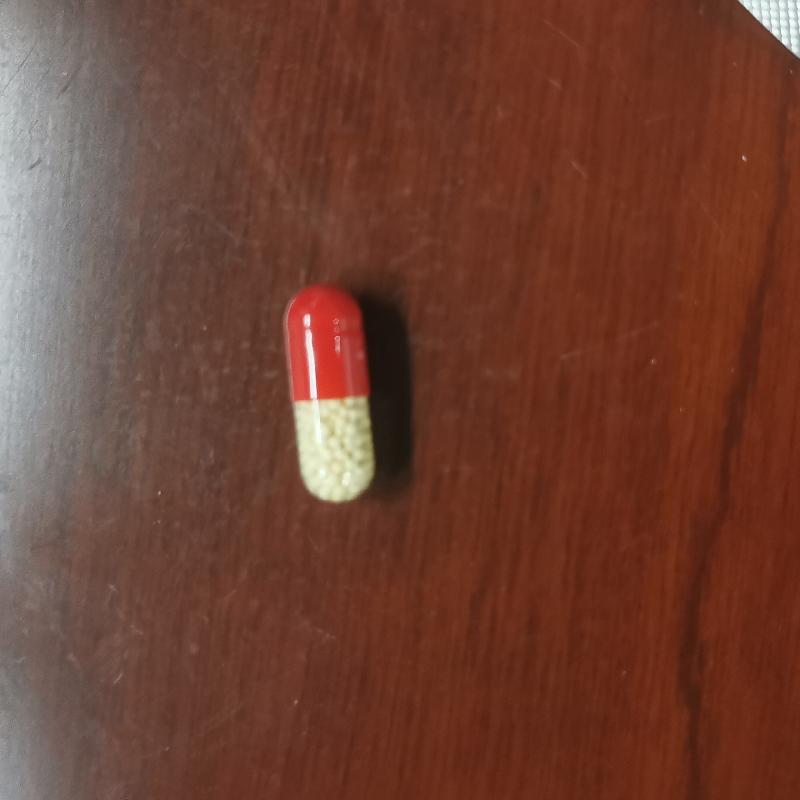pills: (273, 273, 392, 514)
